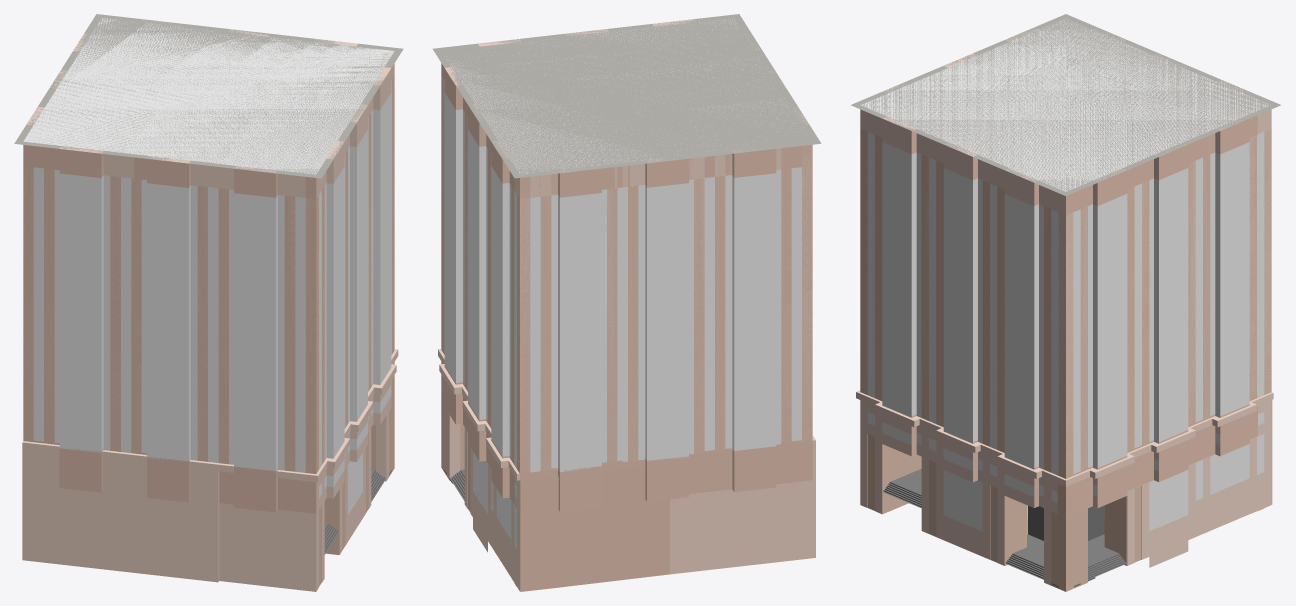
The model's file is tower_office6.dae.
3 renders of one model, left to right at view 1: azimuth 30°, elevation 25°; view 2: azimuth 150°, elevation 25°; view 3: azimuth 270°, elevation 25°, orthographic. The views are drawn at different scales.
Parts seen in each view (by area): view 1: tower_office6_a750, tower_office6_a350; view 2: tower_office6_a750, tower_office6_a350; view 3: tower_office6_a750, tower_office6_a350.
Boxes of the visible parts, x1,y1,x2,y2 form: tower_office6_a750: (22, 18, 398, 591); tower_office6_a350: (14, 14, 403, 586); tower_office6_a750: (438, 18, 815, 590); tower_office6_a350: (432, 14, 821, 591); tower_office6_a750: (856, 18, 1273, 591); tower_office6_a350: (850, 14, 1281, 591).
Bounding box in the file's own units: 62.29 × 62.29 × 65.52.
